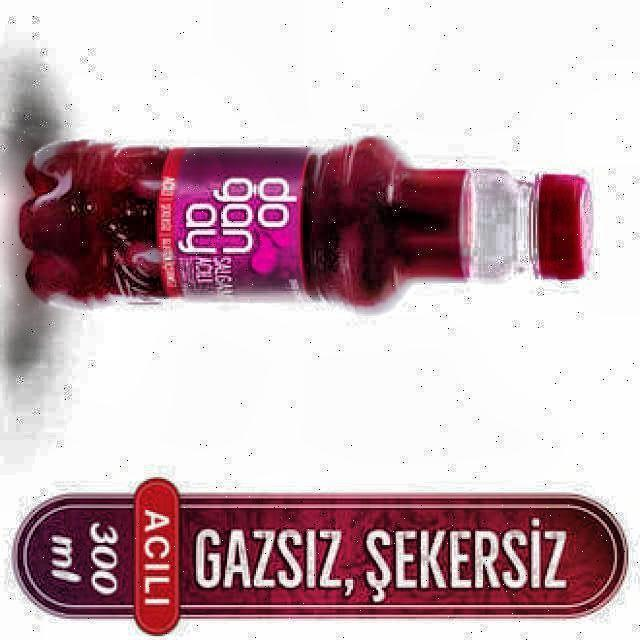plastic: (19, 138, 590, 306)
